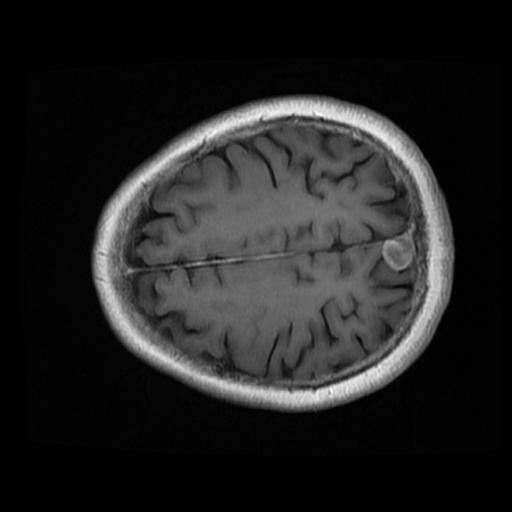meningioma: (380, 237, 412, 270)
